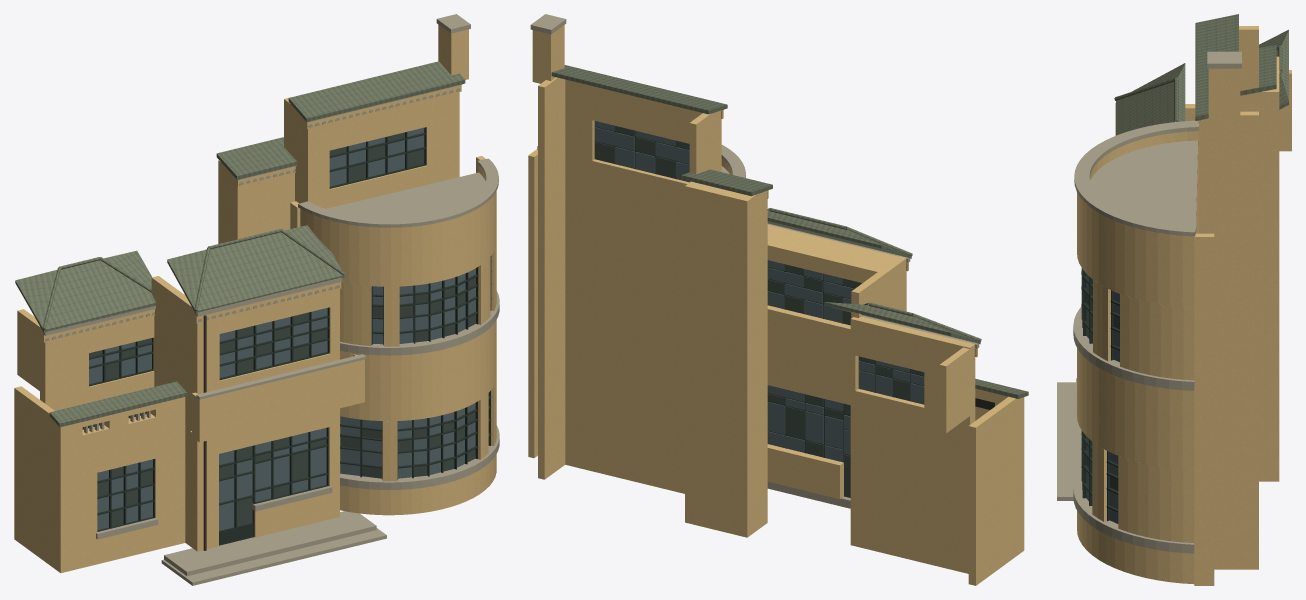
The model's file is yangpu-fudan-jiuyuan-chen-wangdao-former-residence-lod.glb.
3 views of the same model, side by side, from view 1: azimuth 30°, elevation 25°; view 2: azimuth 150°, elevation 25°; view 3: azimuth 270°, elevation 25° (orthographic). The views are drawn at different scales.
Parts seen in each view (by area): view 1: 复旦玖园陈望道旧居花园立面; view 2: 复旦玖园陈望道旧居花园立面; view 3: 复旦玖园陈望道旧居花园立面.
Boxes of the visible parts, bbox=[...] form: 复旦玖园陈望道旧居花园立面: bbox=[14, 14, 499, 585]; 复旦玖园陈望道旧居花园立面: bbox=[528, 14, 1028, 585]; 复旦玖园陈望道旧居花园立面: bbox=[1057, 14, 1291, 585].
Size of the model in its own units: 14.03 by 12.88 by 5.23.
8 materials, 2 textured.
